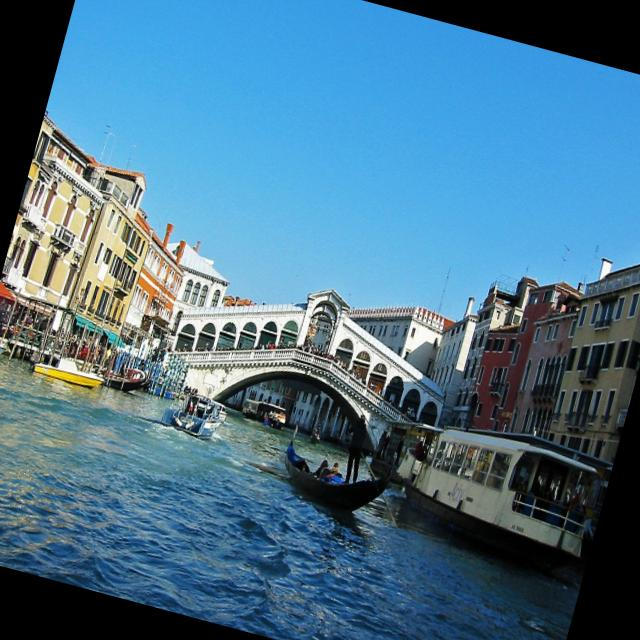boat: (263, 385, 417, 551), (158, 366, 238, 462)
